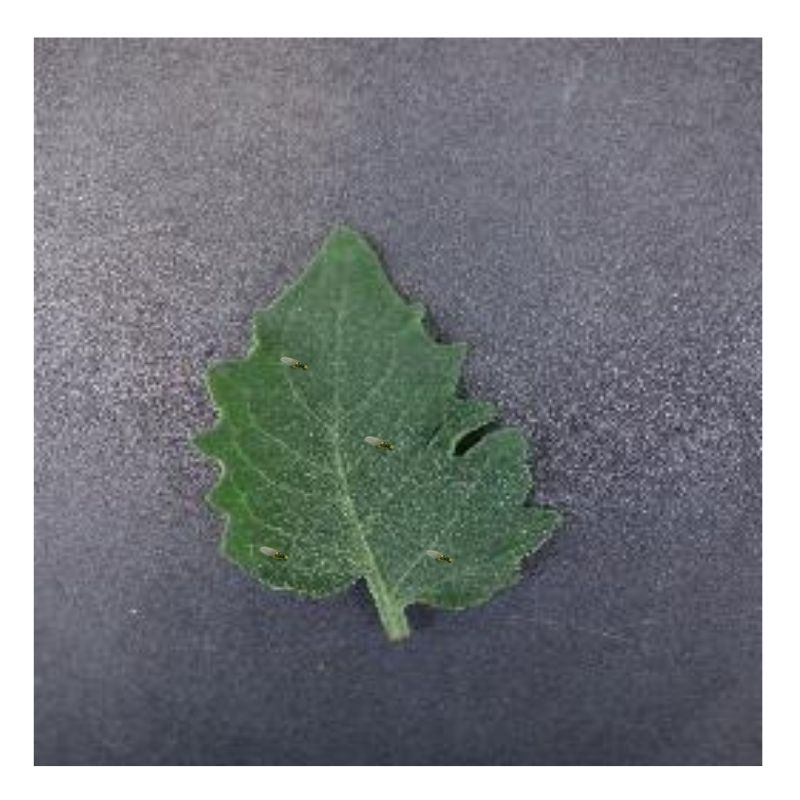liriomyza: (362, 433, 399, 453), (278, 353, 309, 372), (259, 545, 289, 564), (426, 546, 452, 564)
